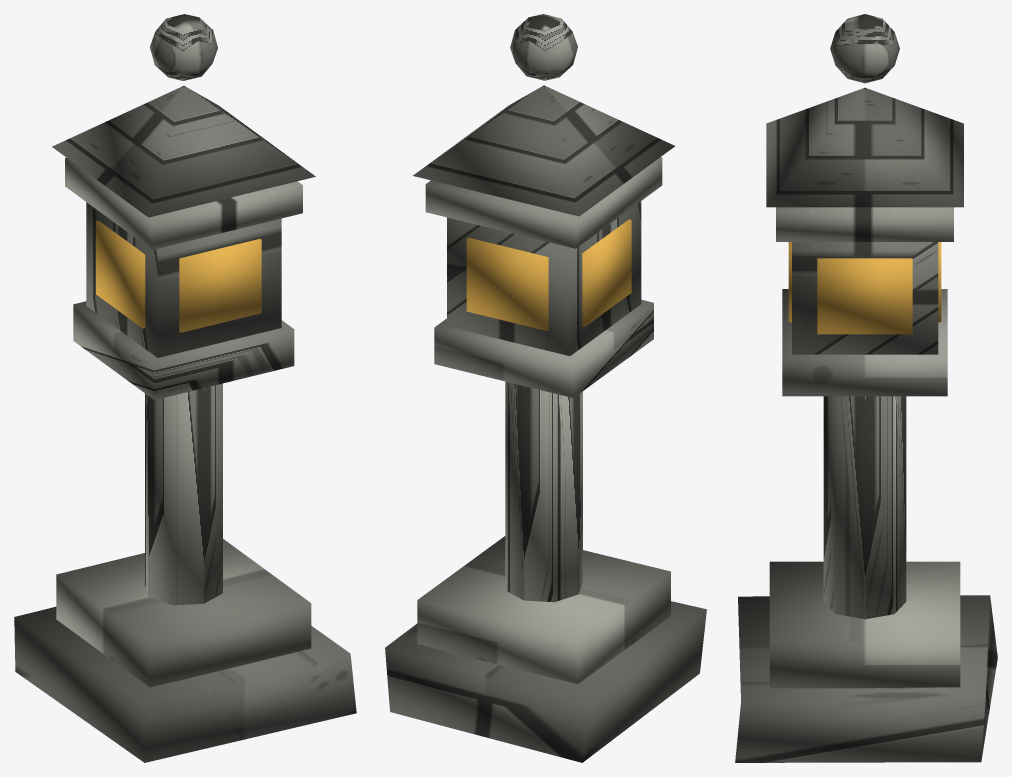
Rendered from stone_lantern.glb.
3 renders of one model, left to right at view 1: azimuth 30°, elevation 25°; view 2: azimuth 150°, elevation 25°; view 3: azimuth 270°, elevation 25°, orthographic. The views are drawn at different scales.
Parts seen in each view (by area): view 1: geometry_1, geometry_0, geometry_2; view 2: geometry_1, geometry_0, geometry_2; view 3: geometry_1, geometry_0, geometry_2.
Boxes of the visible parts, box(x1,y1,x2,y2) form: geometry_1: box(56, 14, 311, 687); geometry_0: box(14, 86, 356, 762); geometry_2: box(96, 220, 261, 332); geometry_1: box(417, 14, 670, 684); geometry_0: box(385, 85, 706, 762); geometry_2: box(466, 219, 631, 330); geometry_1: box(769, 14, 960, 688); geometry_0: box(735, 87, 997, 762); geometry_2: box(788, 242, 941, 334).
Size of the model in its own units: 0.8076 by 2.42 by 0.8267.
3 materials, 2 textured.
